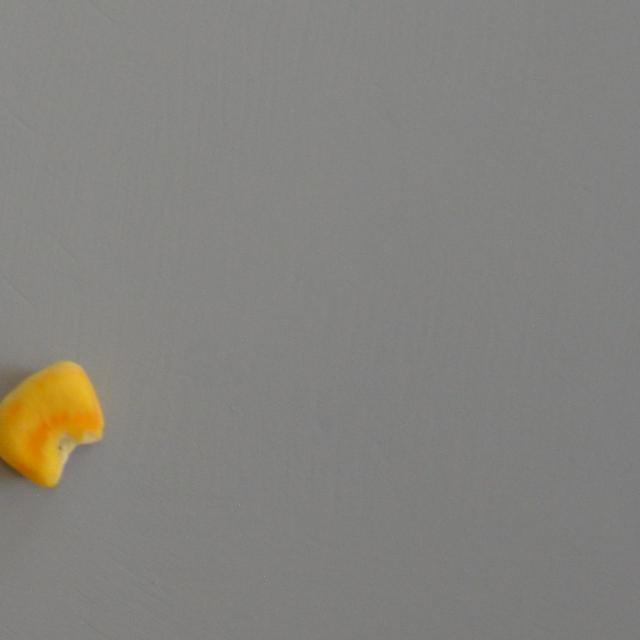punto_negro: (0, 360, 104, 490)
